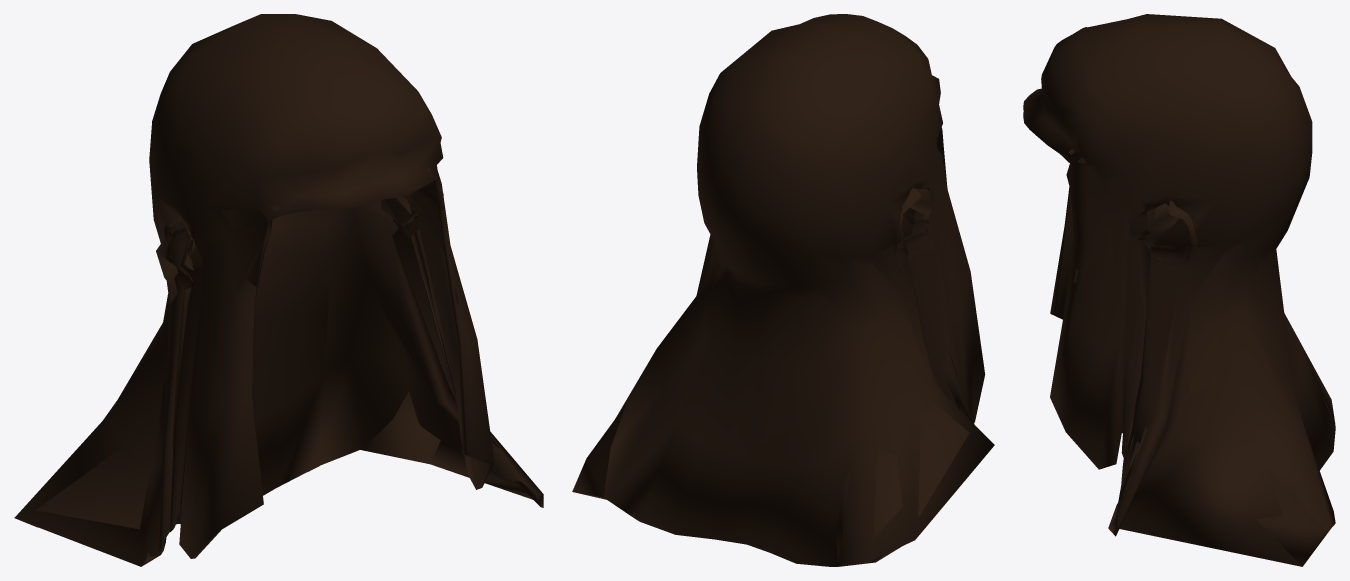
The model's file is hair_long.glb.
3 views of the same model, side by side, from view 1: azimuth 30°, elevation 25°; view 2: azimuth 150°, elevation 25°; view 3: azimuth 270°, elevation 25° (orthographic). The views are drawn at different scales.
Parts seen in each view (by area): view 1: hair_long; view 2: hair_long; view 3: hair_long.
Part boxes in pixels (x1,y1,x2,y2): hair_long: [14, 14, 543, 566]; hair_long: [572, 14, 994, 566]; hair_long: [1023, 14, 1335, 566].
Size of the model in its own units: 0.3498 by 0.4381 by 0.2706.
